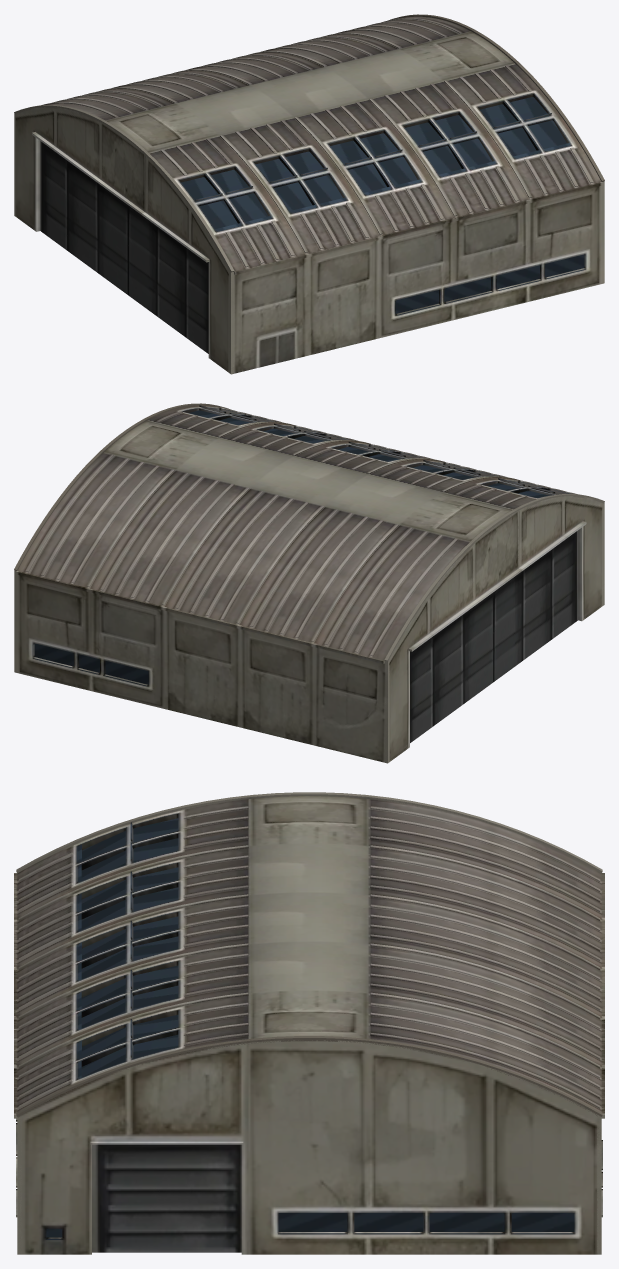
File: hangar_cad.glb
3 renders of one model, top to bottom at view 1: azimuth 30°, elevation 25°; view 2: azimuth 150°, elevation 25°; view 3: azimuth 270°, elevation 25°, orthographic. The views are drawn at different scales.
Visible parts, largest first — view 1: Hangar; view 2: Hangar; view 3: Hangar.
Part boxes in pixels (x1,y1,x2,y2): Hangar: [14, 14, 604, 374]; Hangar: [14, 403, 604, 763]; Hangar: [14, 792, 604, 1254].
Bounding box in the file's own units: 38.78 × 15.72 × 38.84.
Materials: 1 (1 with a texture image).
